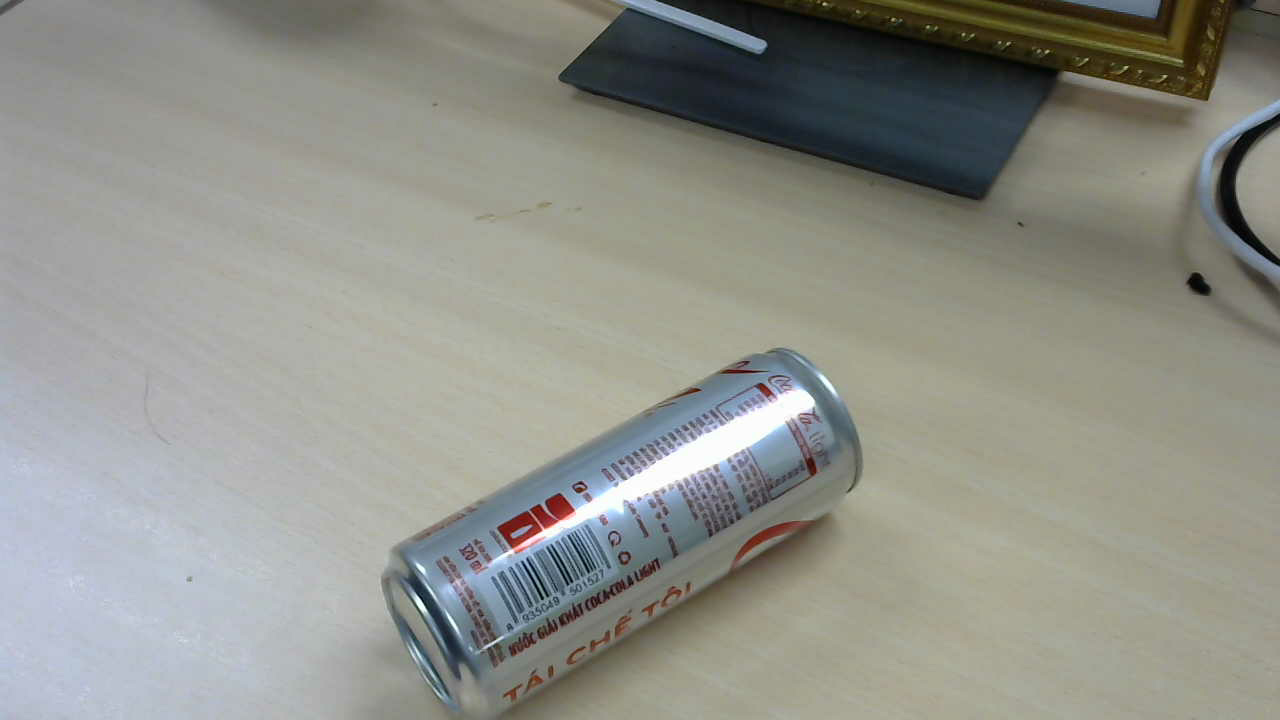Coca_Cola: (384, 352, 871, 702)
